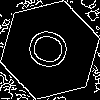O: (25, 25, 80, 76)
